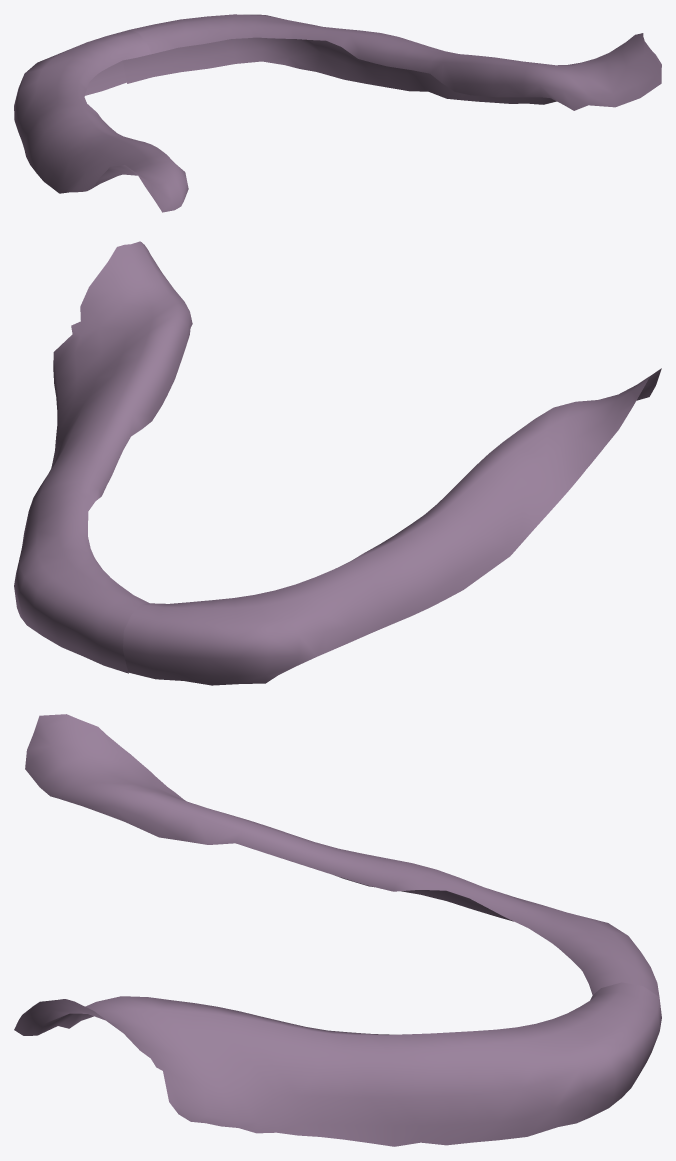
File: Alveolar.fbx
The picture shows the model from 3 angles, top to bottom: view 1: azimuth 30°, elevation 25°; view 2: azimuth 150°, elevation 25°; view 3: azimuth 270°, elevation 25°; orthographic projection. The views are drawn at different scales.
Parts seen in each view (by area): view 1: Alveolar; view 2: Alveolar; view 3: Alveolar.
Boxes of the visible parts, bbox=[...] form: Alveolar: bbox=[14, 14, 661, 212]; Alveolar: bbox=[14, 241, 661, 685]; Alveolar: bbox=[14, 714, 661, 1146].
Bounding box in the file's own units: 316 × 95.3 × 287.
